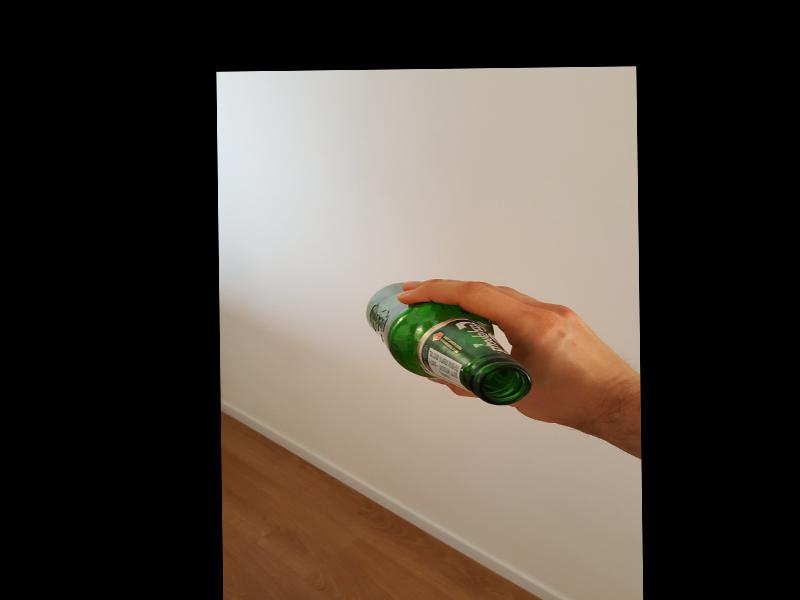Beer: (366, 282, 532, 409)
